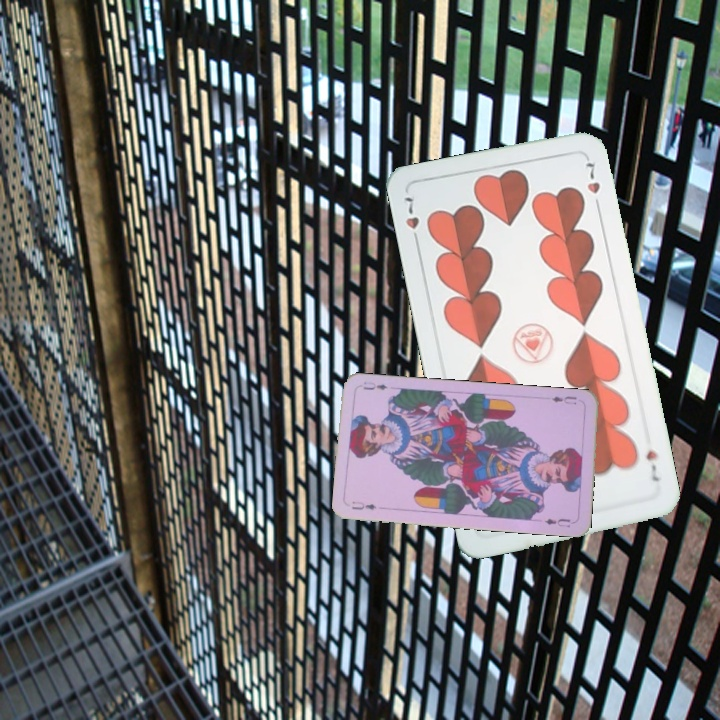EU: (547, 391, 579, 407), (348, 497, 379, 512)
H7: (400, 193, 422, 249), (642, 446, 662, 484)
